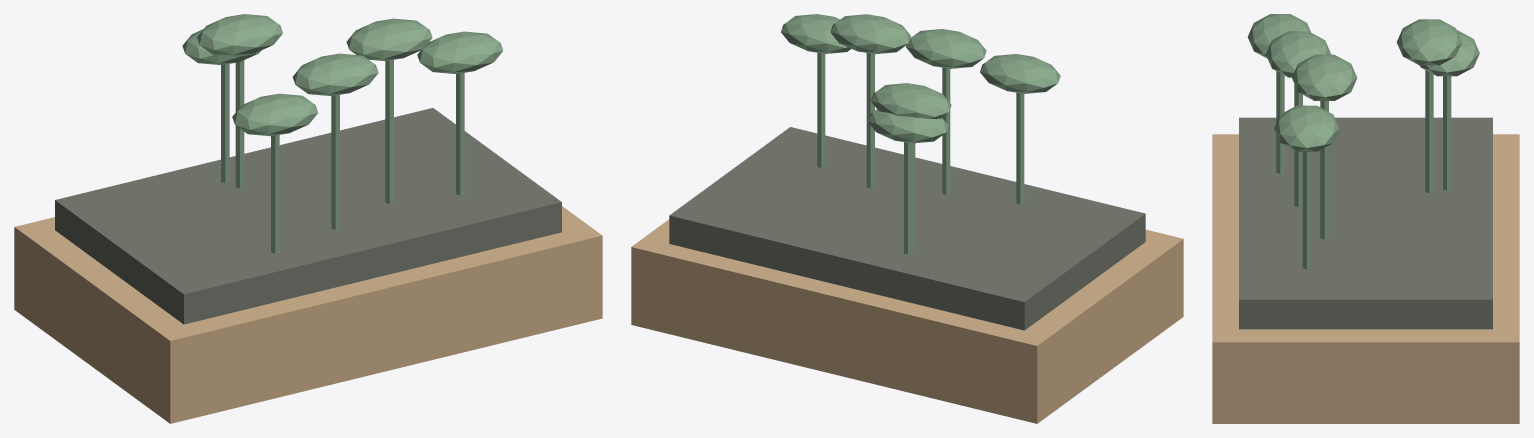
File: roof_garden_01.glb
3 renders of one model, left to right at view 1: azimuth 30°, elevation 25°; view 2: azimuth 150°, elevation 25°; view 3: azimuth 270°, elevation 25°, orthographic. The views are drawn at different scales.
Parts seen in each view (by area): view 1: soil, bed, leaf2, leaf3, leaf1, leaf4, leaf0, stem0, stem1, stem4, stem5, stem2 (+2 smaller); view 2: soil, bed, leaf2, leaf0, leaf1, leaf3, leaf4, leaf5, stem0, stem4, stem5, stem2 (+1 smaller); view 3: soil, bed, leaf0, leaf4, leaf3, leaf1, leaf2, leaf5, stem3, stem4, stem5, stem0 (+2 smaller).
Boxes of the visible parts, x1,y1,x2,y2 form: soil: [55, 108, 561, 324]; bed: [14, 206, 602, 423]; leaf2: [232, 93, 317, 136]; leaf3: [197, 14, 282, 56]; leaf1: [292, 53, 378, 96]; leaf4: [417, 31, 503, 73]; leaf0: [346, 18, 432, 61]; stem0: [385, 60, 393, 203]; stem1: [331, 95, 339, 229]; stem4: [456, 73, 464, 195]; stem5: [221, 64, 229, 183]; stem2: [271, 135, 279, 253]; soil: [669, 127, 1145, 330]; bed: [631, 219, 1183, 423]; leaf2: [980, 54, 1060, 93]; leaf0: [830, 14, 910, 54]; leaf1: [906, 29, 986, 68]; leaf3: [871, 83, 951, 118]; leaf4: [781, 14, 851, 53]; leaf5: [868, 109, 948, 143]; stem0: [866, 53, 874, 188]; stem4: [817, 53, 825, 167]; stem5: [904, 142, 912, 254]; stem2: [1016, 92, 1024, 204]; soil: [1239, 117, 1492, 329]; bed: [1212, 134, 1519, 423]; leaf0: [1292, 54, 1357, 100]; leaf4: [1274, 105, 1339, 151]; leaf3: [1396, 19, 1461, 65]; leaf1: [1266, 31, 1331, 77]; leaf2: [1247, 14, 1310, 58]; leaf5: [1420, 30, 1479, 76]; stem3: [1425, 70, 1433, 193]; stem4: [1302, 152, 1310, 269]; stem5: [1443, 76, 1451, 190]; stem0: [1320, 101, 1328, 239].
Size of the model in its own units: 1.2 by 0.7695 by 0.75.
